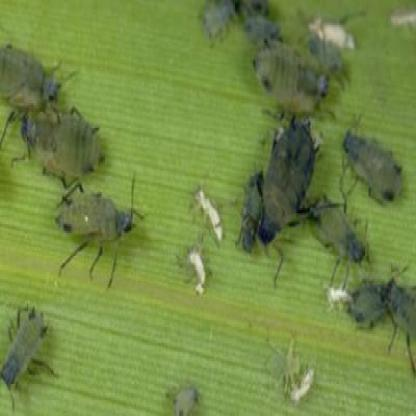aphid: (47, 176, 140, 282), (258, 106, 318, 264), (13, 98, 108, 197), (248, 29, 330, 114), (307, 184, 370, 282), (339, 122, 405, 214), (1, 300, 53, 413), (331, 260, 398, 336), (1, 40, 63, 119), (383, 266, 416, 360), (205, 0, 279, 39), (238, 164, 266, 259), (312, 16, 350, 84)
